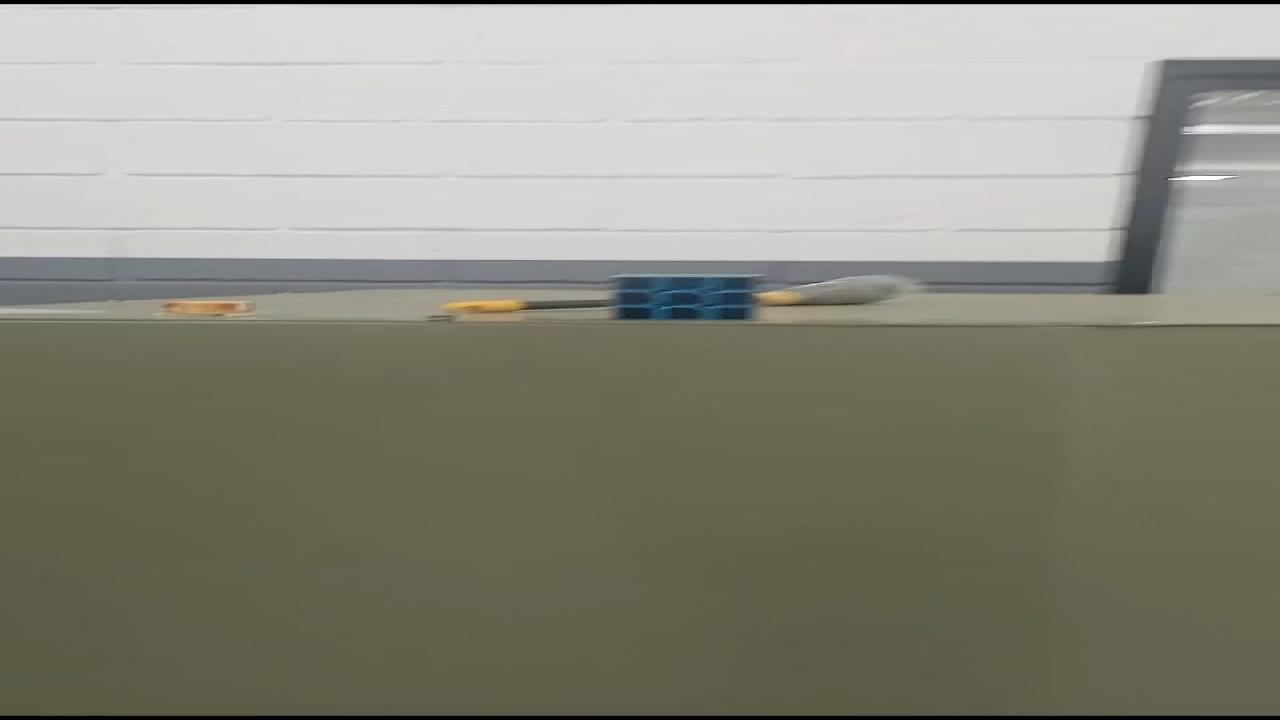Cube: (602, 272, 762, 320)
